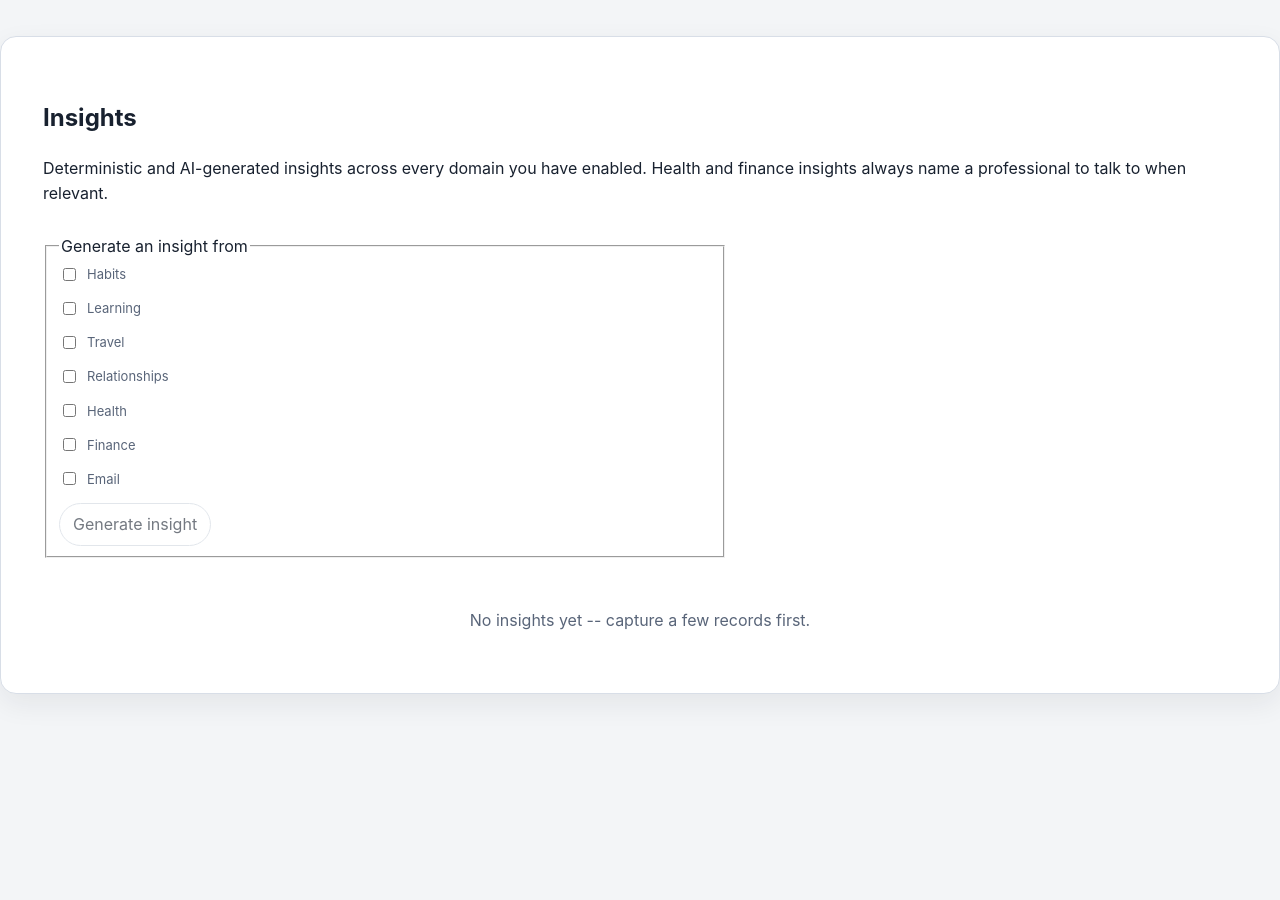
InsightsPanel › generates an insight from the selected source domains
Expected: the text "No insights yet -- capture a few records first." is shown, [470,610,810,630]
Click the checkbox labelled "Habits" at {"x": 70, "y": 274}, box [63,268,76,280]
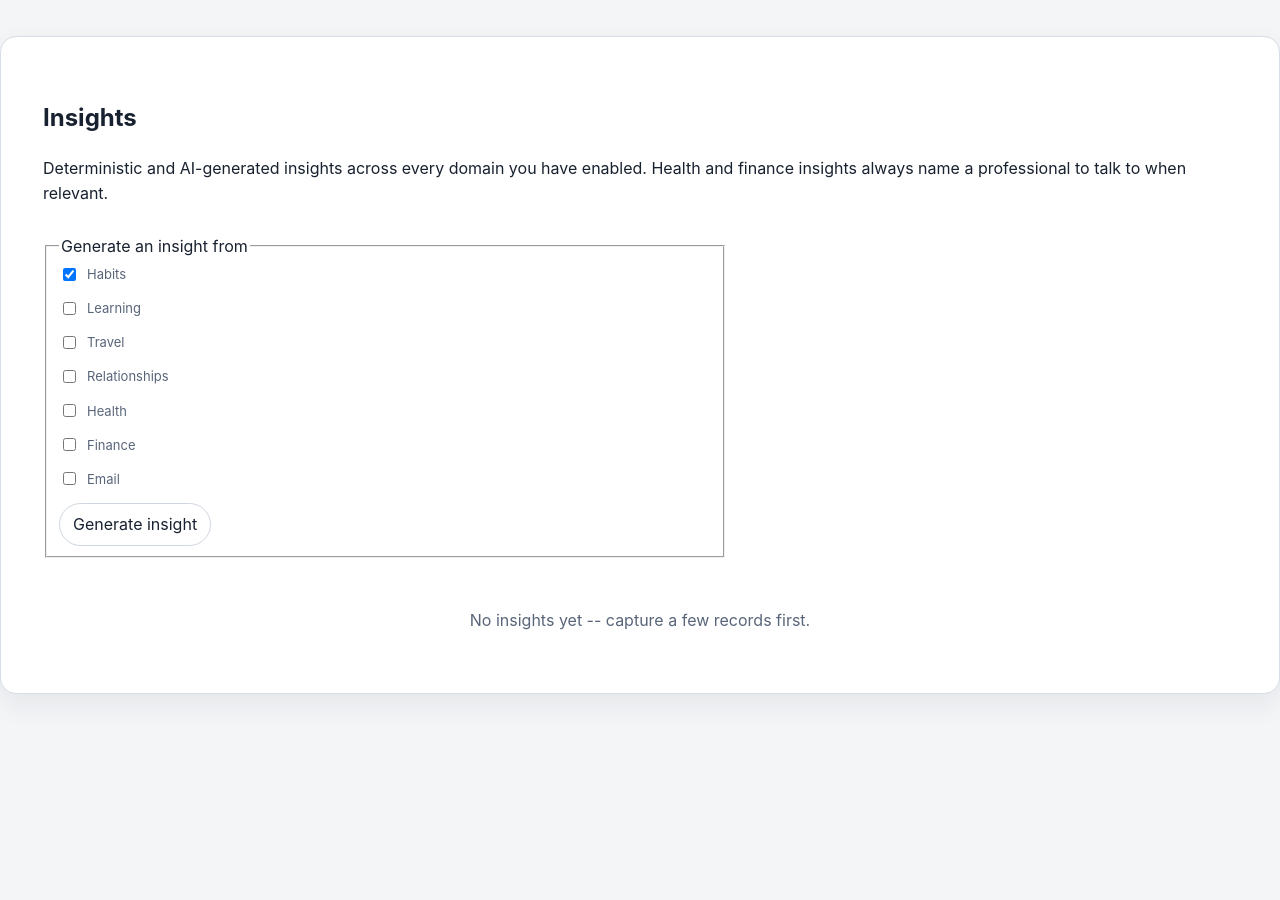
Click the button "Generate insight" at {"x": 135, "y": 524}, box [59,503,211,546]
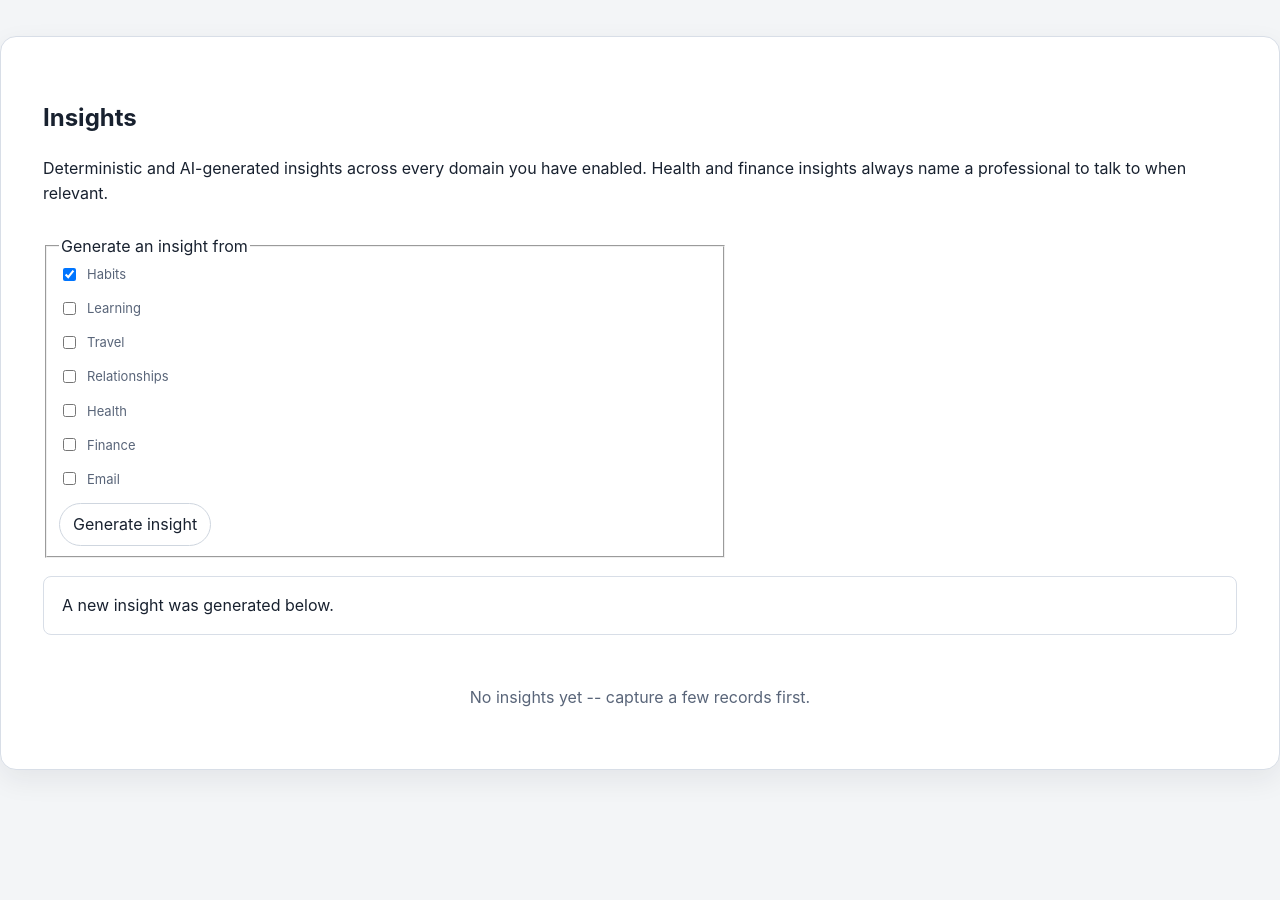
Result: the text "A new insight was generated below." is shown at [43,576,1237,635]
